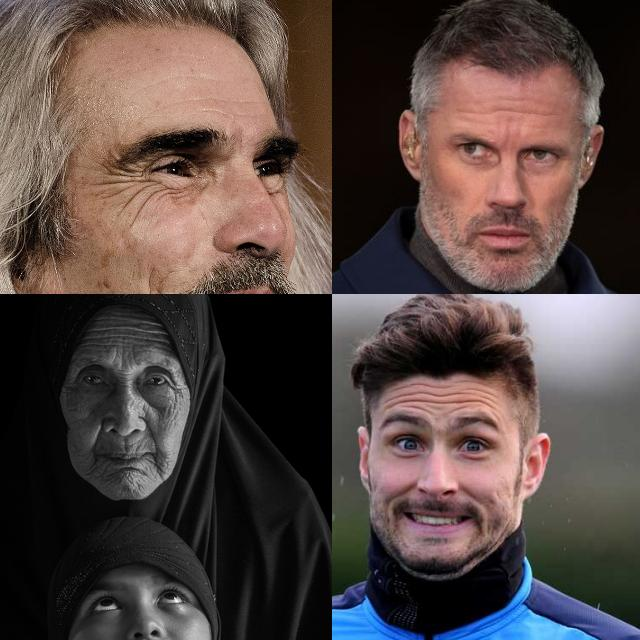chin: (112, 462, 148, 476)
crows_feet: (101, 158, 151, 198), (170, 379, 186, 407)
forehead: (489, 94, 548, 122), (202, 98, 245, 124), (467, 386, 503, 414), (391, 386, 429, 408), (146, 320, 172, 352), (434, 386, 462, 414), (120, 320, 146, 346), (88, 322, 112, 348)
frown_line: (117, 366, 133, 392)
gummy_smile: (382, 480, 418, 500), (458, 479, 484, 503), (142, 417, 162, 445), (88, 420, 104, 448)
masseter: (137, 267, 169, 294)
sad_smile: (88, 450, 104, 480), (150, 453, 166, 477)
